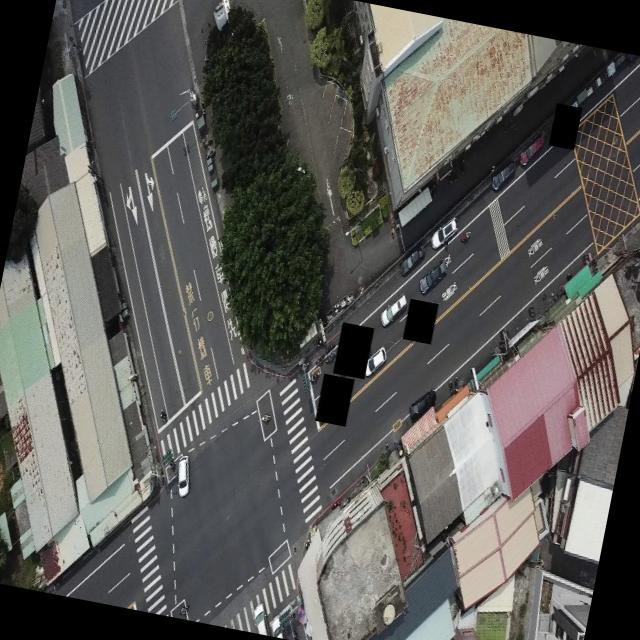bike: (158, 403, 168, 421)
car: (471, 348, 504, 395), (407, 384, 439, 426), (170, 452, 197, 500), (416, 260, 448, 300), (378, 290, 409, 331), (432, 214, 459, 252), (520, 130, 546, 169), (363, 344, 388, 382), (491, 159, 517, 194), (400, 244, 425, 278), (210, 0, 232, 33), (572, 80, 594, 110), (256, 408, 278, 438)
